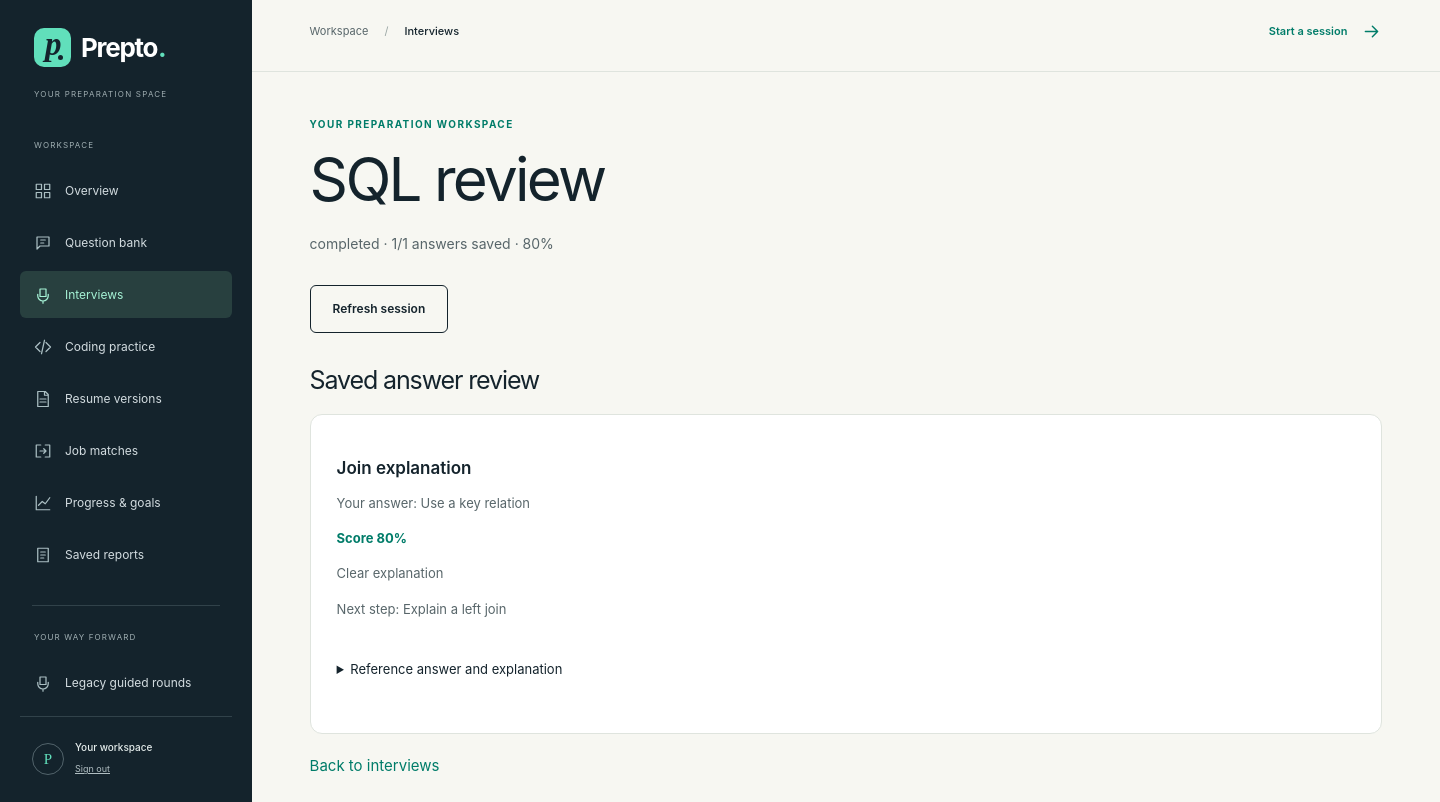
a saved interview deep link loads private completion review and reference answers through the root shell
The width and height of the screenshot is (1440, 802).
Expected: the text "Clear explanation" is shown, [337, 565, 444, 581]
Expected: the text "Next step: Explain a left join" is shown, [337, 601, 506, 617]
Click the heading "Reference answer and explanation": (456, 669) [350, 661, 562, 677]
(page scrolled)
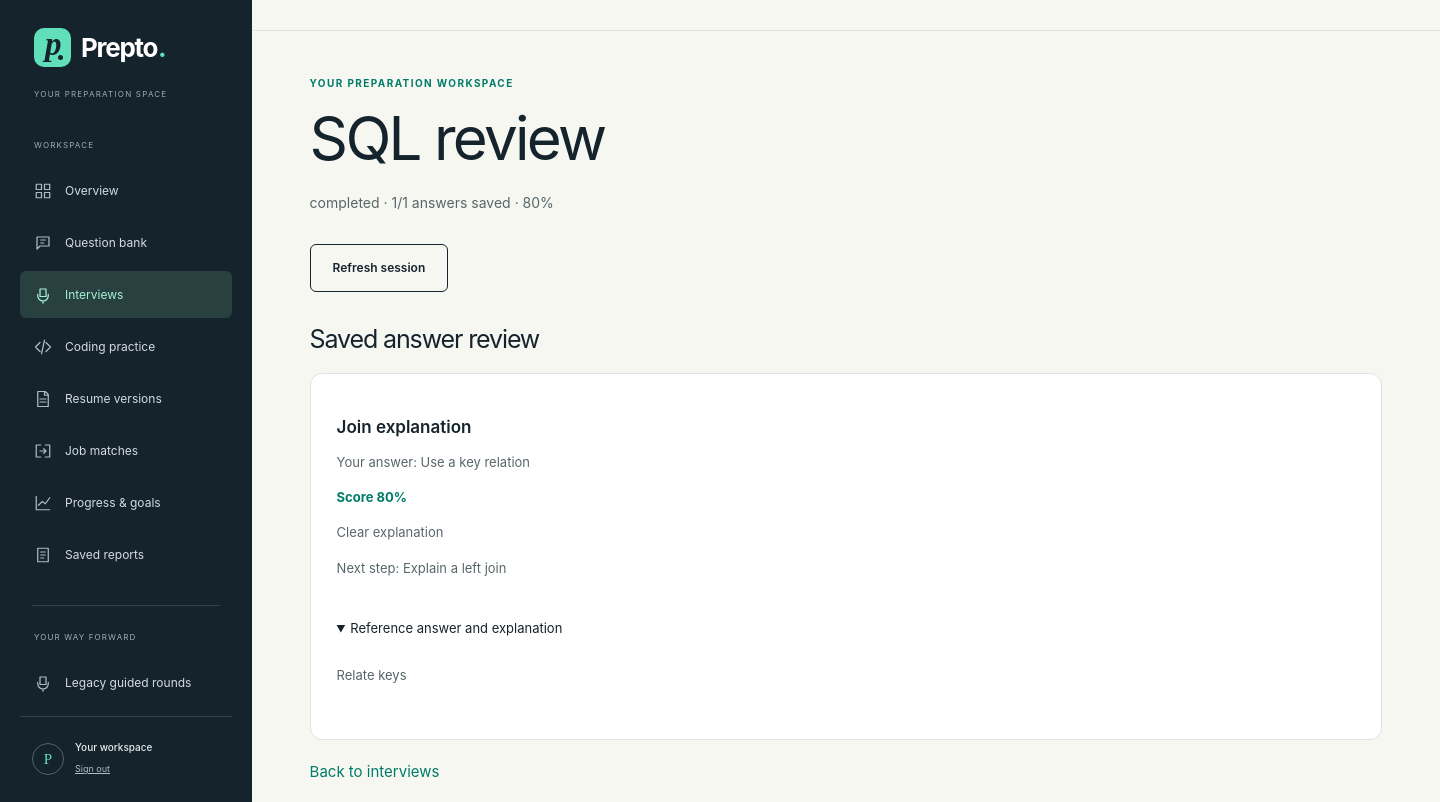
Result: the text "Relate keys" is shown at [337, 667, 406, 683]
